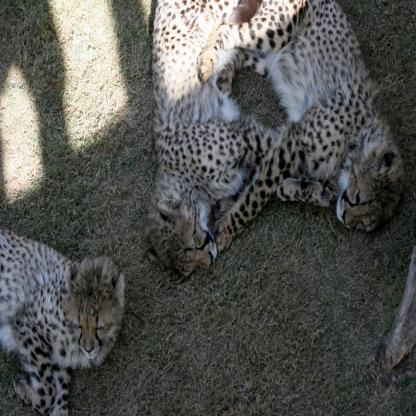leopard: (55, 245, 129, 374), (336, 134, 400, 254), (154, 184, 223, 286)
